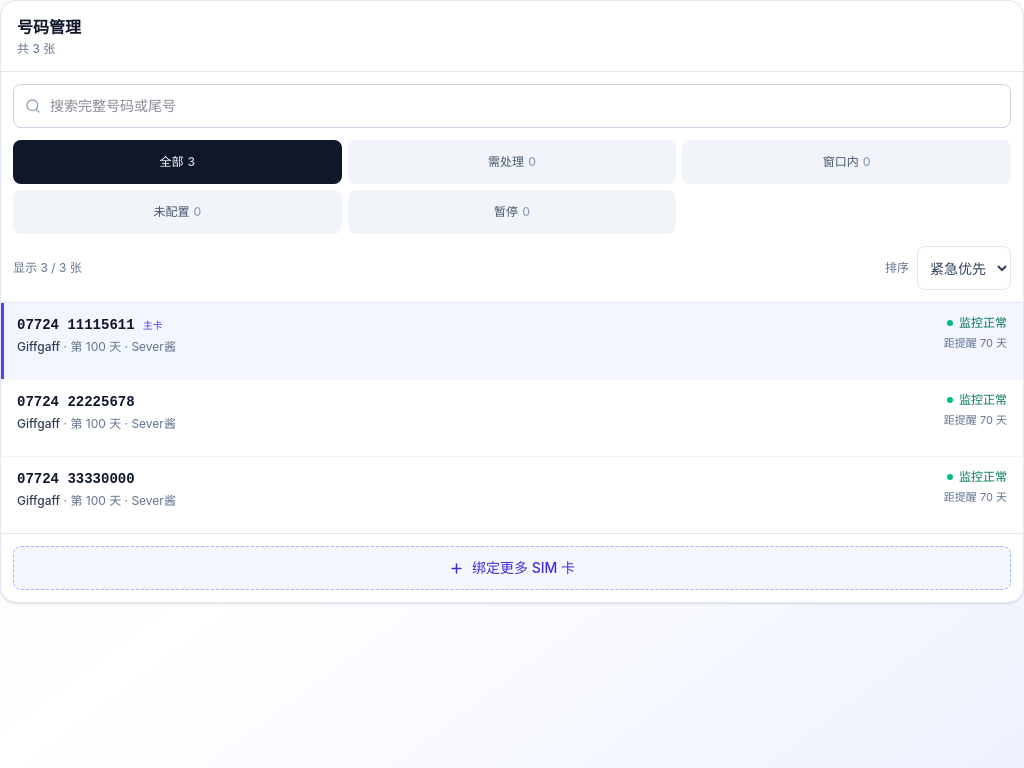
Test: <SimManager /> › 搜索完整号码或尾号并可清除
Type "5678" into the search field named "搜索 SIM 卡".
click(512, 106); type("5678")  # box [13, 84, 1011, 128]
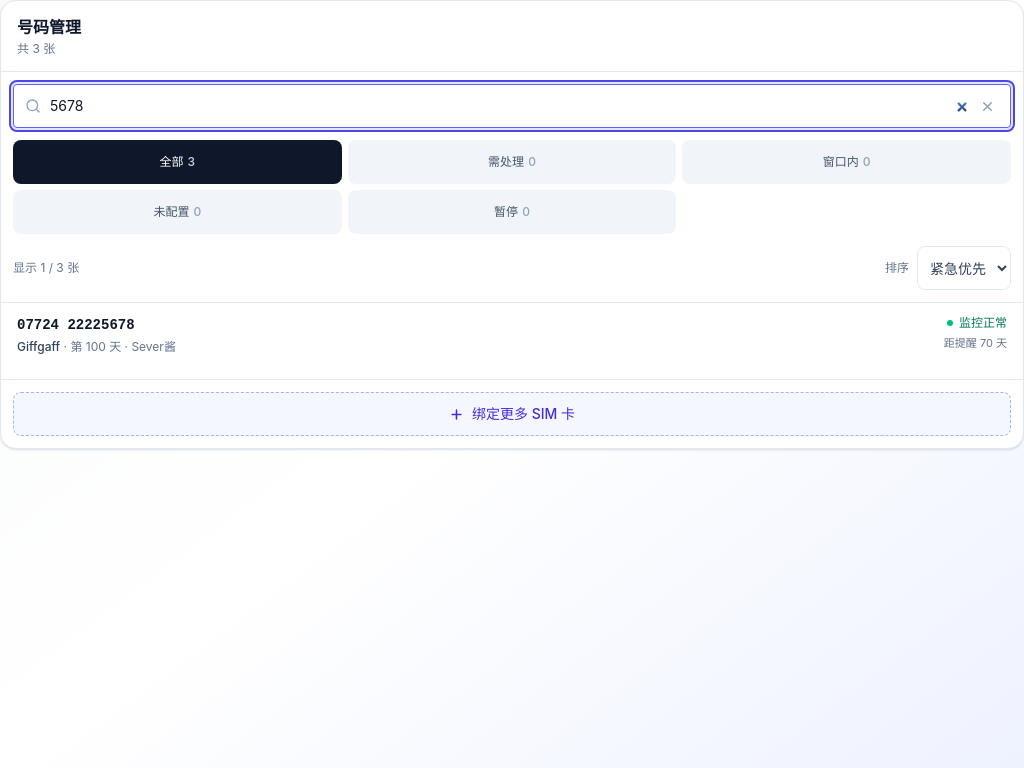
Expected: the link "07724 22225678 Giffgaff · 第 100 天 · Sever酱 监控正常 距提醒 70 天" is shown, [17, 315, 1007, 354]
Now the text "显示 1 / 3 张" is shown, box [13, 260, 79, 276]
Click the button named "清除搜索".
click(987, 106)  # box [967, 86, 1007, 126]
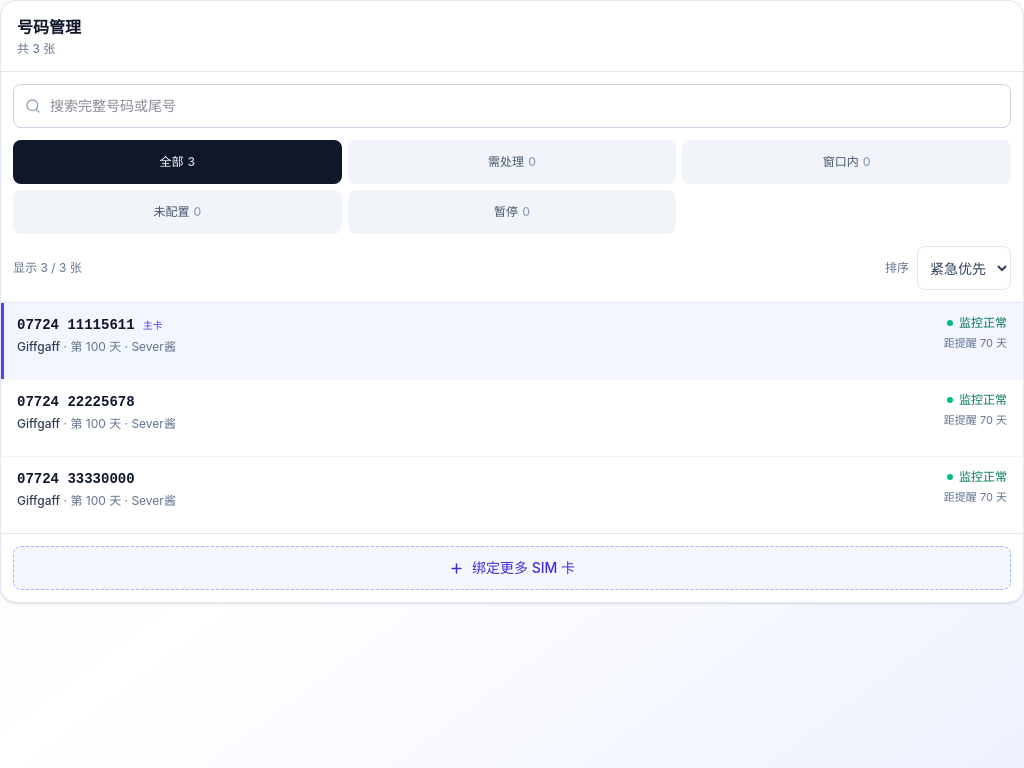
Now the search field named "搜索 SIM 卡" is empty, box [13, 84, 1011, 128]
Now the text "显示 3 / 3 张" is shown, box [13, 260, 82, 276]
